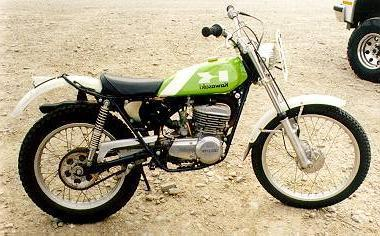motorcycle: (3, 3, 376, 227)
